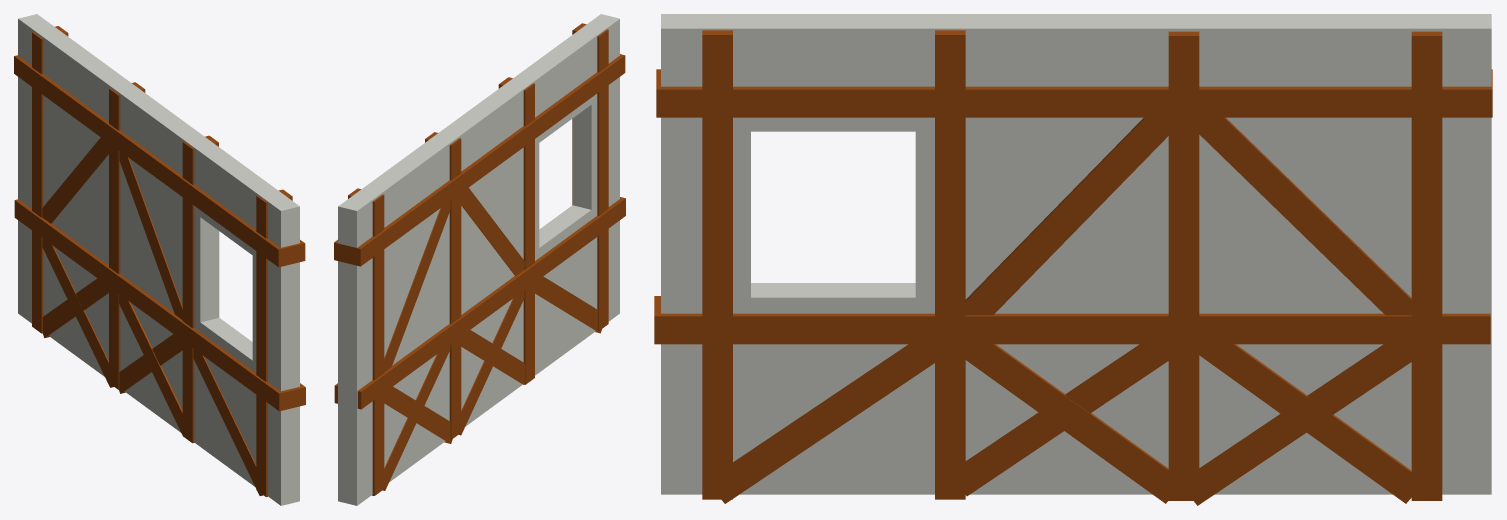
Rendered from OneWindowWall3.fbx.
The picture shows the model from 3 angles, left to right: view 1: azimuth 30°, elevation 25°; view 2: azimuth 150°, elevation 25°; view 3: azimuth 270°, elevation 25°; orthographic projection. The views are drawn at different scales.
Visible parts, largest first — view 1: OneWindowWall3; view 2: OneWindowWall3; view 3: OneWindowWall3.
Boxes of the visible parts, <box> form: OneWindowWall3: <box>14,14,305,505</box>; OneWindowWall3: <box>334,14,625,505</box>; OneWindowWall3: <box>654,14,1492,505</box>.
Bounding box in the file's own units: 113 × 1133 × 1810.
